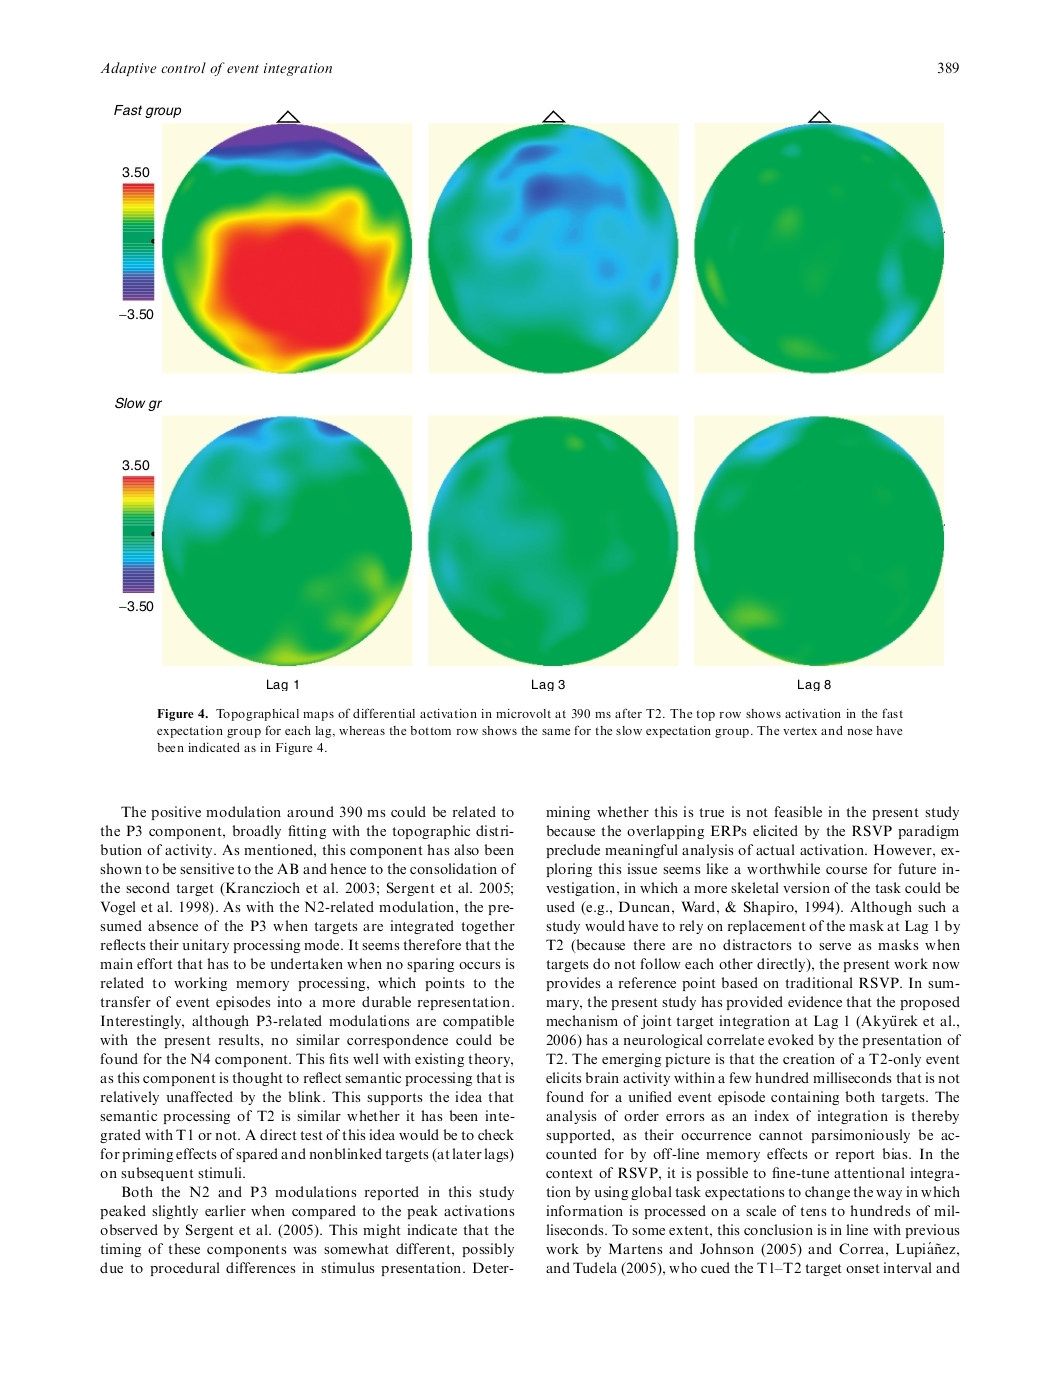figure: (114, 104, 412, 374), (119, 415, 412, 666), (427, 109, 678, 374), (694, 109, 944, 374), (427, 415, 678, 666), (694, 415, 944, 666)
